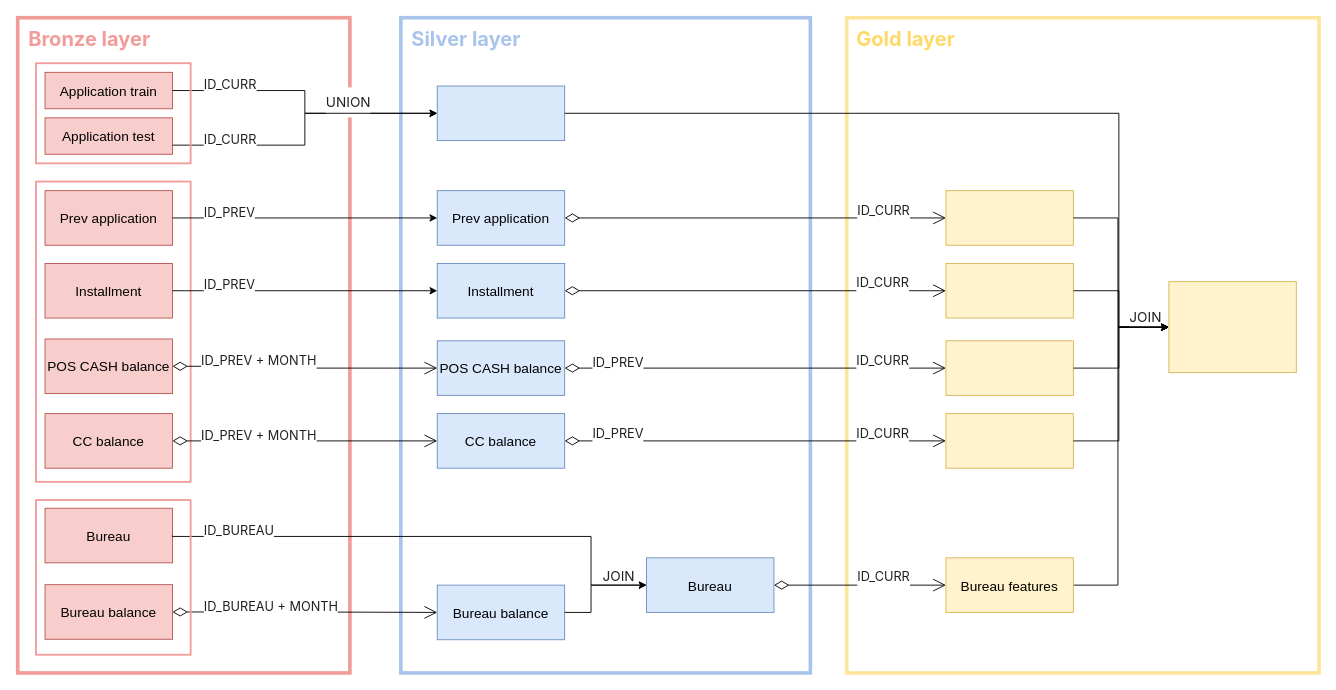
Some shapes in this 1336 by 690 pixel diagram are drawn without their labels. Here are the shapes that lost their labels. From the top down, the centre of each, then its label:
At (x=500, y=113): "Application".
At (x=1009, y=217): "Prev application features".
At (x=1009, y=290): "Installment features".
At (x=1232, y=327): "Applicant features key: sk_id_bureau (56 columns)".
At (x=1009, y=367): "POS CASH features".
At (x=1009, y=440): "CC features".
